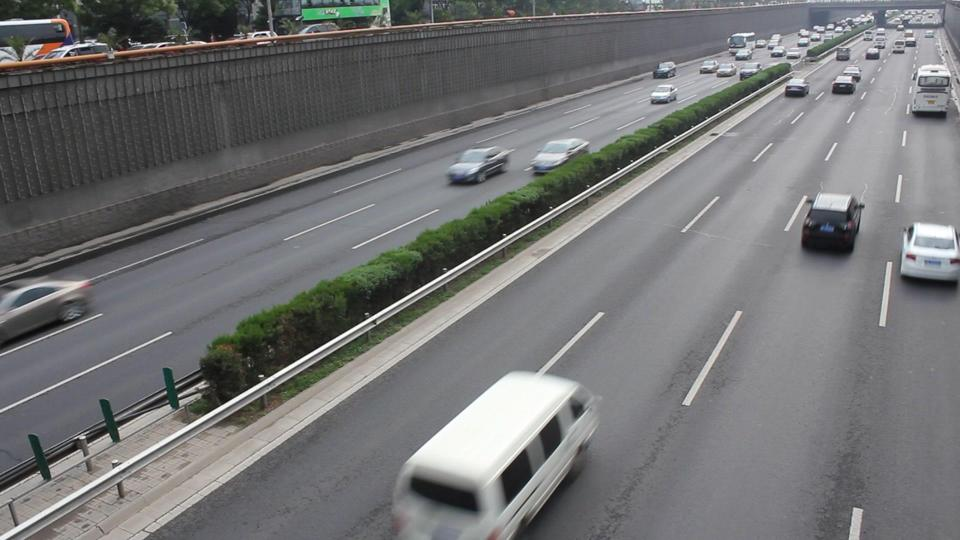Car: (1, 270, 90, 332), (898, 222, 960, 285), (798, 193, 859, 253), (446, 145, 507, 183), (529, 137, 588, 175)
Minivan: (395, 369, 593, 540)
